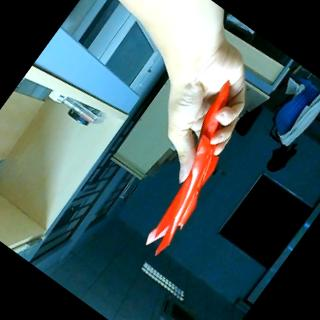Jet: (115, 79, 268, 262)
